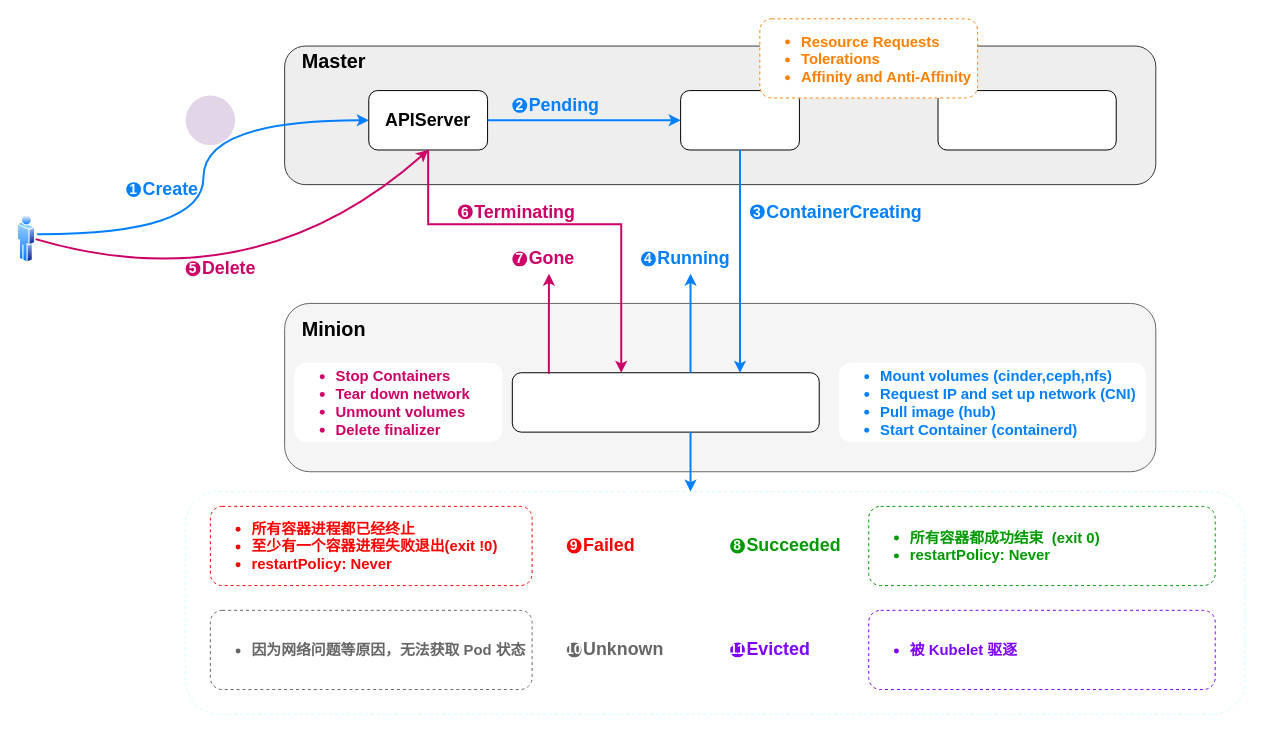
Image size: 1262x732. Some labels were removed from this diagram. Each missing label, with the centre of its shape:
Controller Manager: the point at 1026,120
Kubelet: the point at 665,402
Pod: the point at 210,120
Scheduler: the point at 739,120
